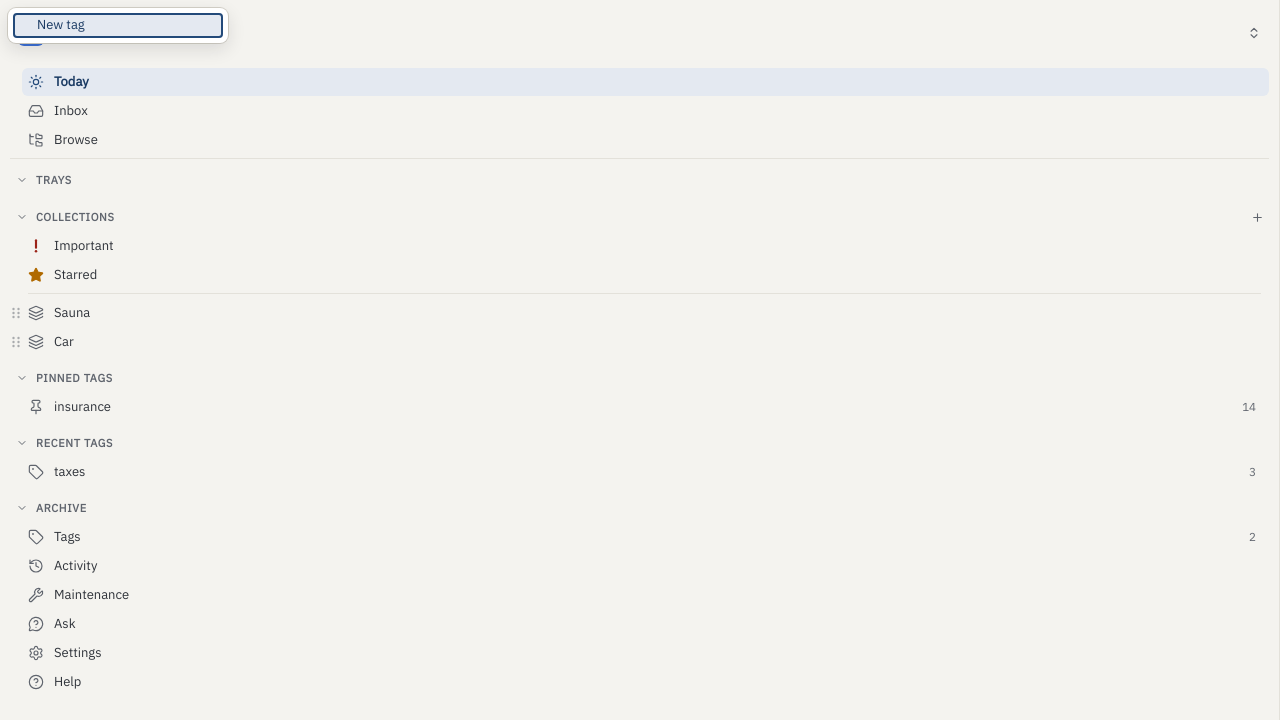
Test: Sidebar right-click menus › the Pinned and Recent tags captions offer New tag
The image size is (1280, 720).
Expected: the link with aria-label "insurance (14)" is shown, [22,393,1269,421]
Click the menu item "New tag". click: (118, 25)
box: [13,13,223,38]
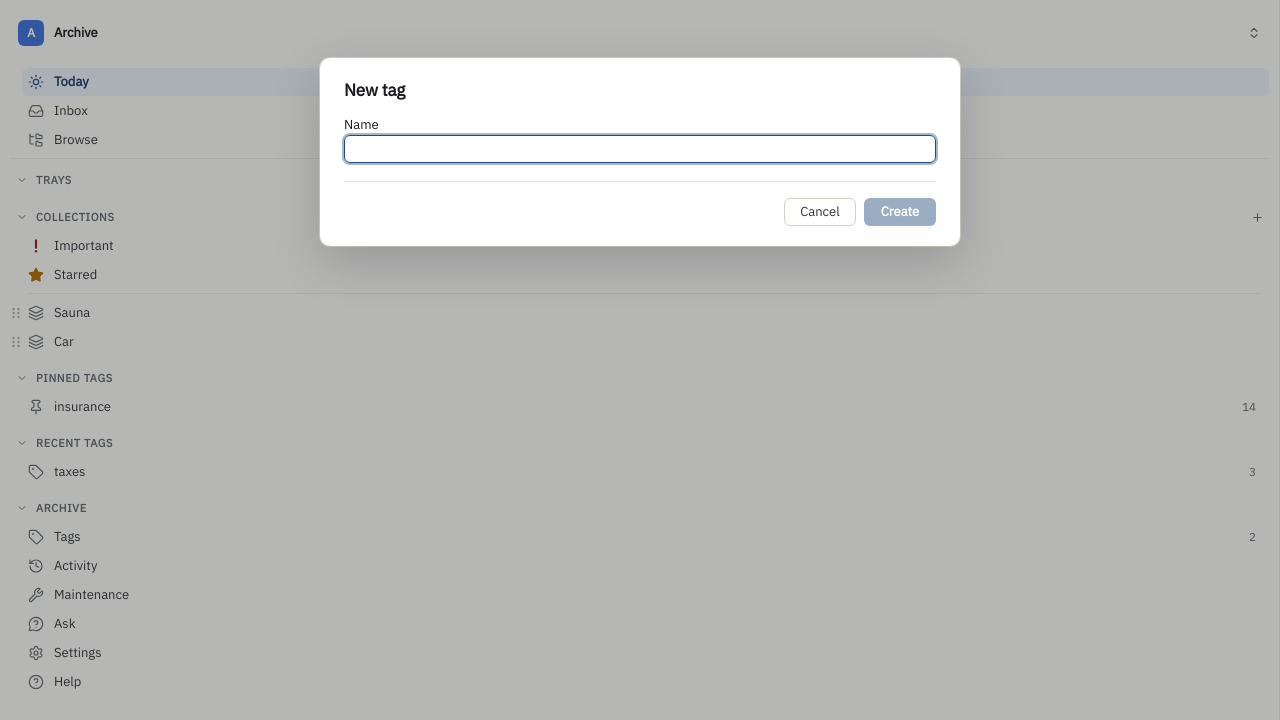
Expected: the dialog "New tag" is shown, [320,58,960,246]
